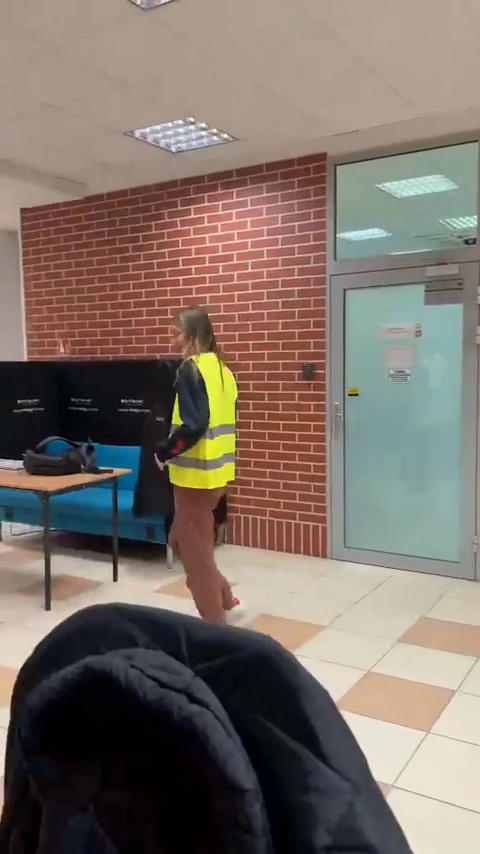vest: (156, 309, 253, 633)
